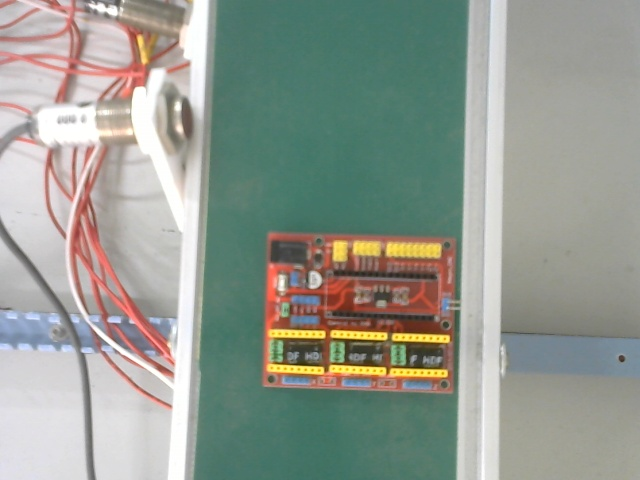IC: (364, 283, 404, 309)
capacitor: (406, 340, 452, 368), (281, 339, 327, 366), (345, 337, 388, 365), (302, 267, 328, 294)
connector: (328, 235, 448, 268), (263, 231, 313, 268)
